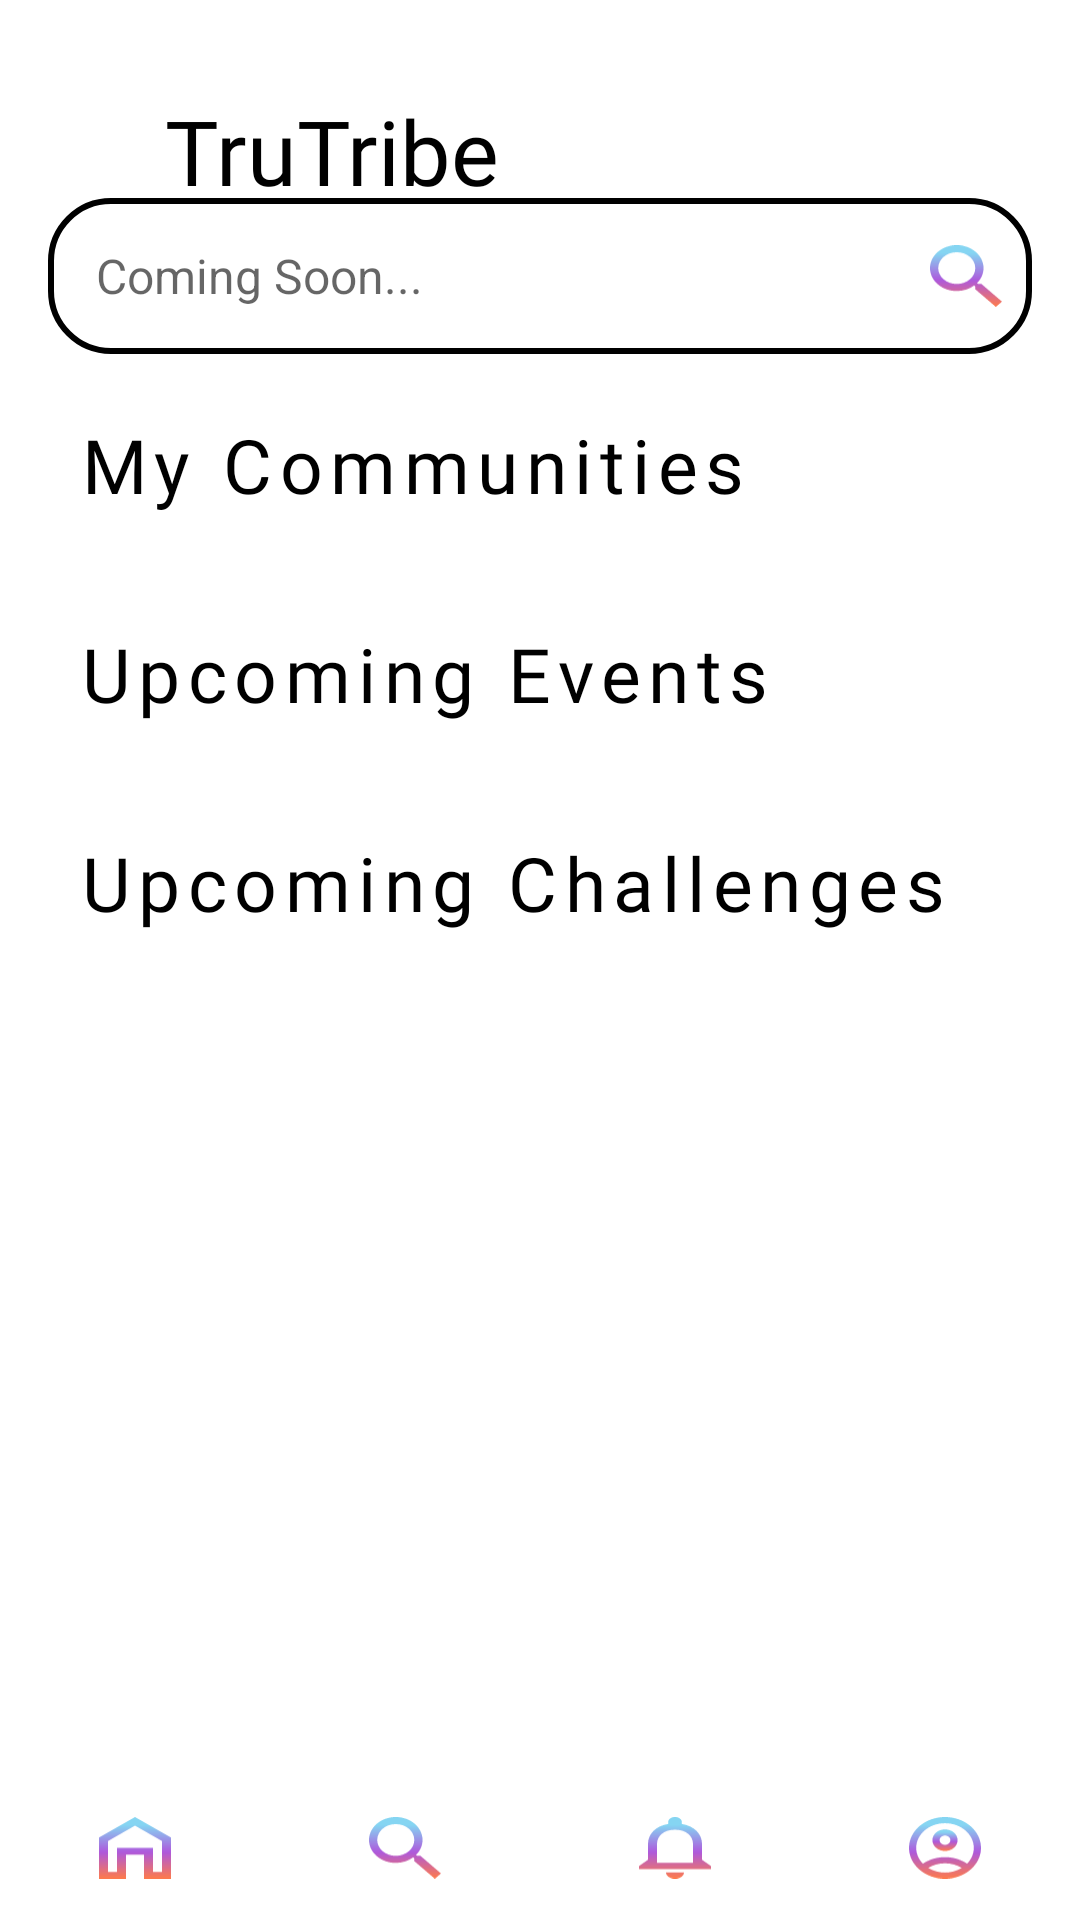

Named icons in this screenshot (1080 x 1920) and their bounding boxes, bbox=(x1, y1, x2, y2):
Search: bbox=(930, 245, 1002, 307)
